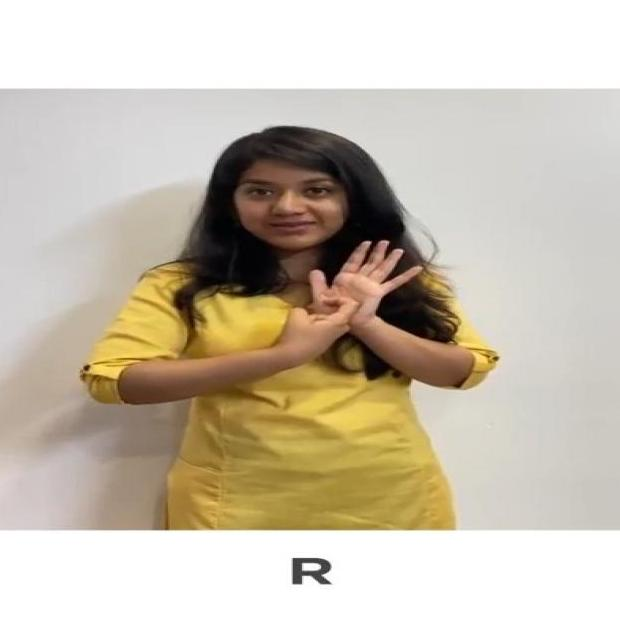Q: (273, 230, 428, 368)
